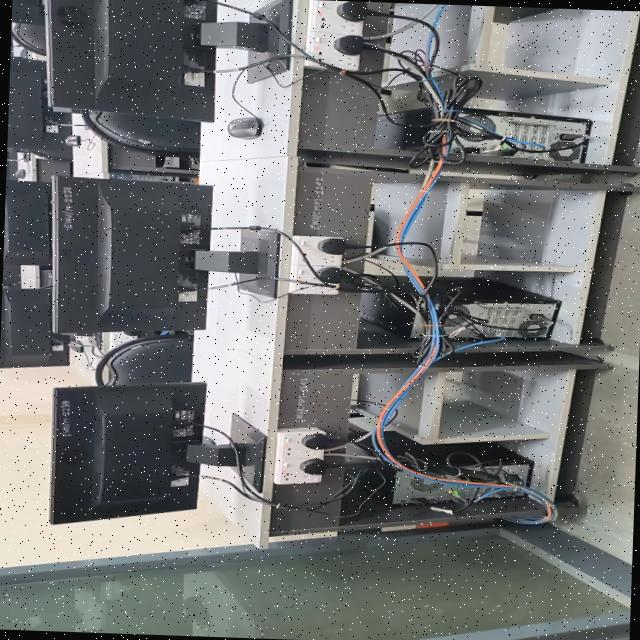Chair: (79, 111, 197, 158), (93, 333, 191, 385), (10, 23, 45, 56)
Cpu: (392, 451, 531, 515), (454, 113, 587, 162), (457, 301, 555, 337)
Monitor: (51, 177, 209, 332), (48, 382, 203, 524), (44, 0, 212, 121), (6, 56, 70, 162), (0, 288, 67, 367), (2, 179, 49, 266), (10, 0, 42, 27), (1, 265, 19, 288)
Mouse: (227, 116, 260, 139), (63, 135, 78, 146), (13, 169, 24, 179)
